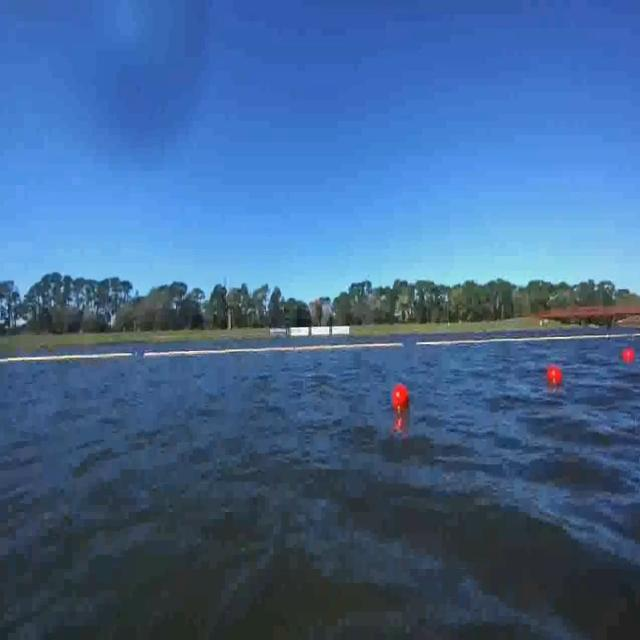red-buoy: (392, 384, 408, 411), (548, 364, 564, 386), (623, 348, 636, 364)
